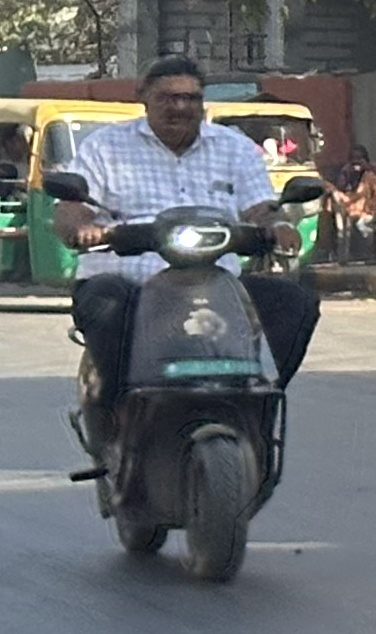BikeWithRider: (36, 47, 340, 589)
NoHelmet: (138, 50, 214, 140)
